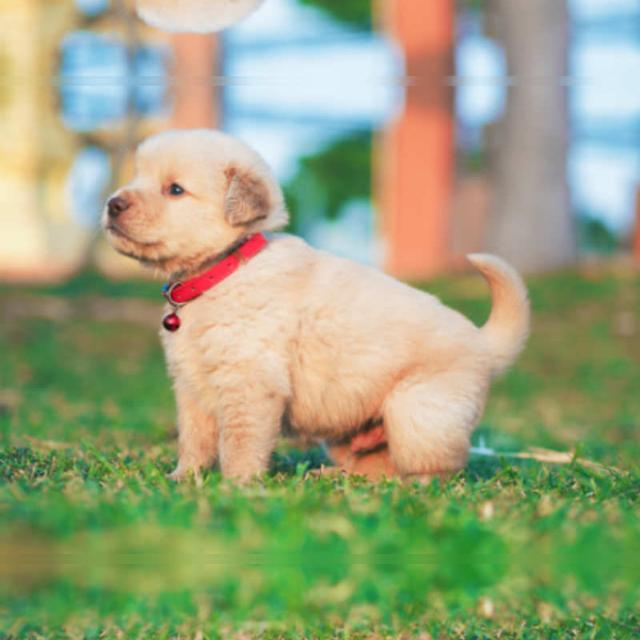dog: (100, 122, 548, 494), (100, 0, 548, 37), (100, 622, 548, 640)
